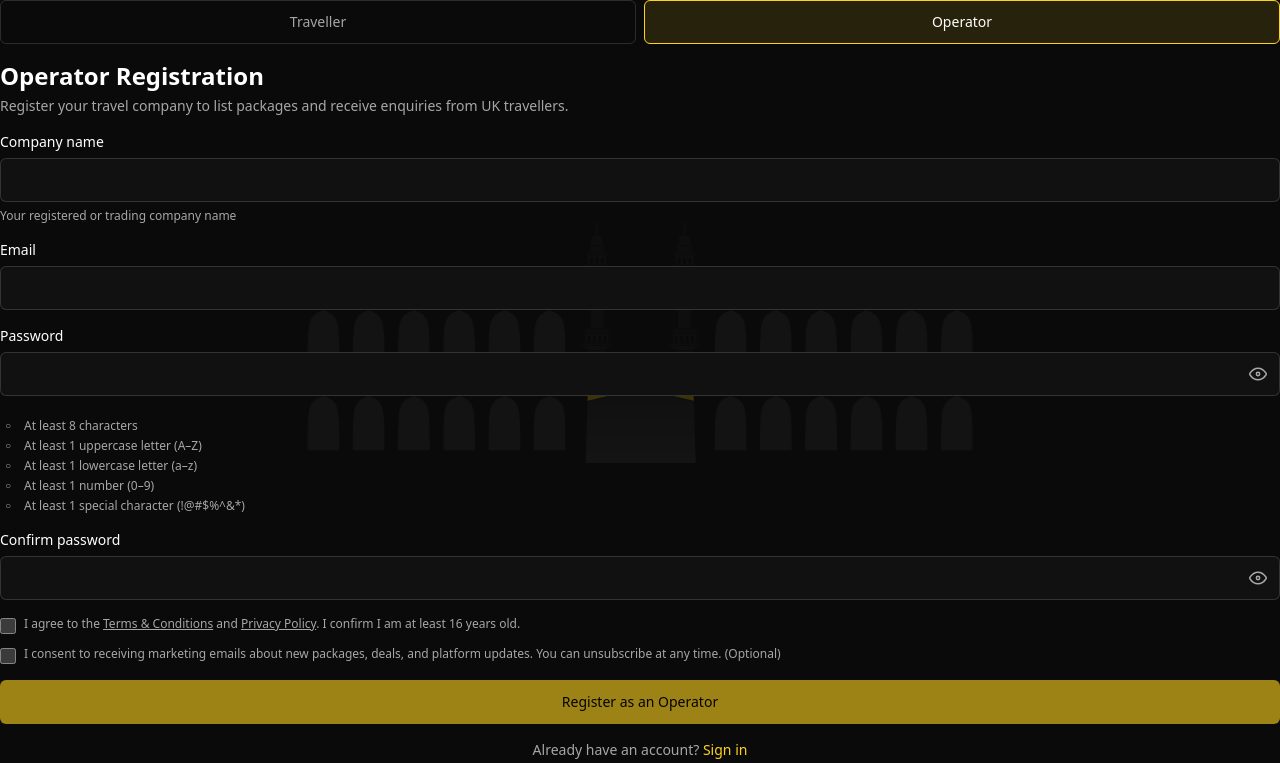
Test: SignUpForm › shows password mismatch error when passwords do not match
This screenshot has width=1280, height=763.
Type "Test User" into the field with test id "signup-name" at (640, 180), box x1=0 y1=158 x2=1279 y2=202
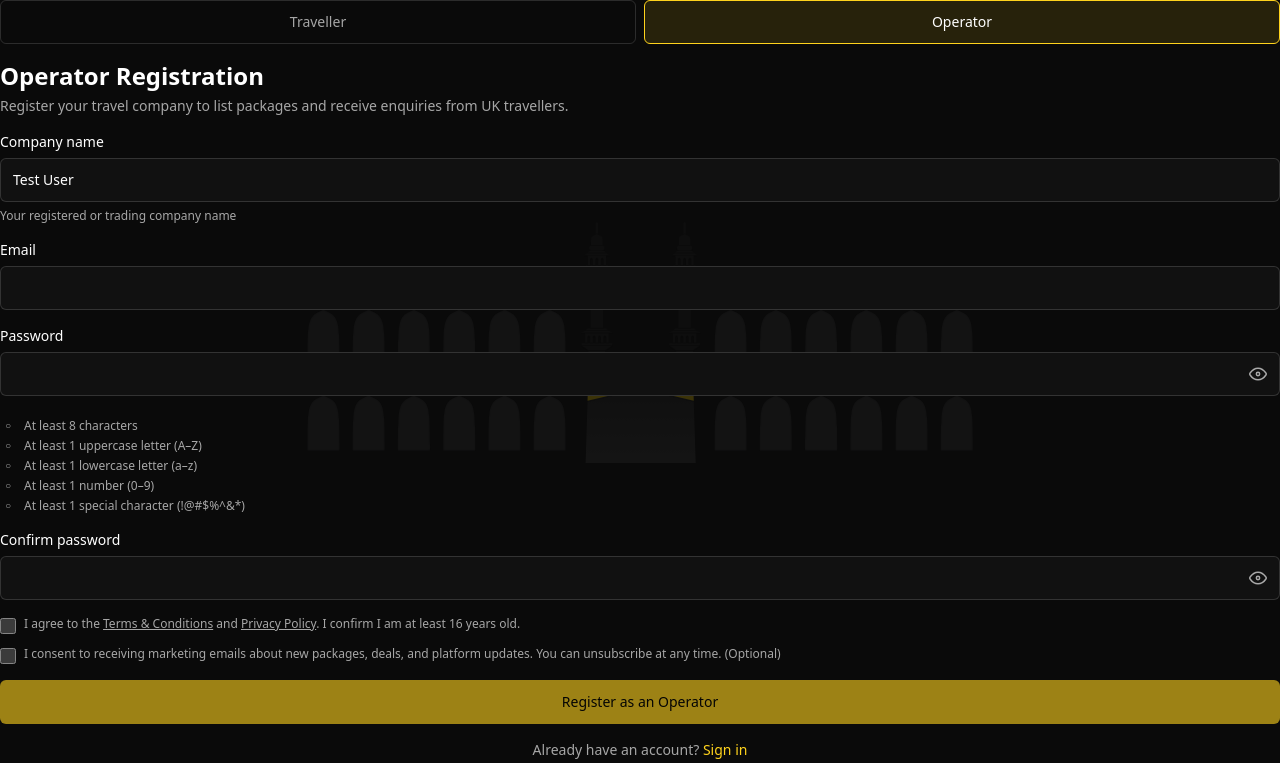
Type "test@example.com" into the field with test id "signup-email" at (640, 288), box x1=0 y1=266 x2=1279 y2=310
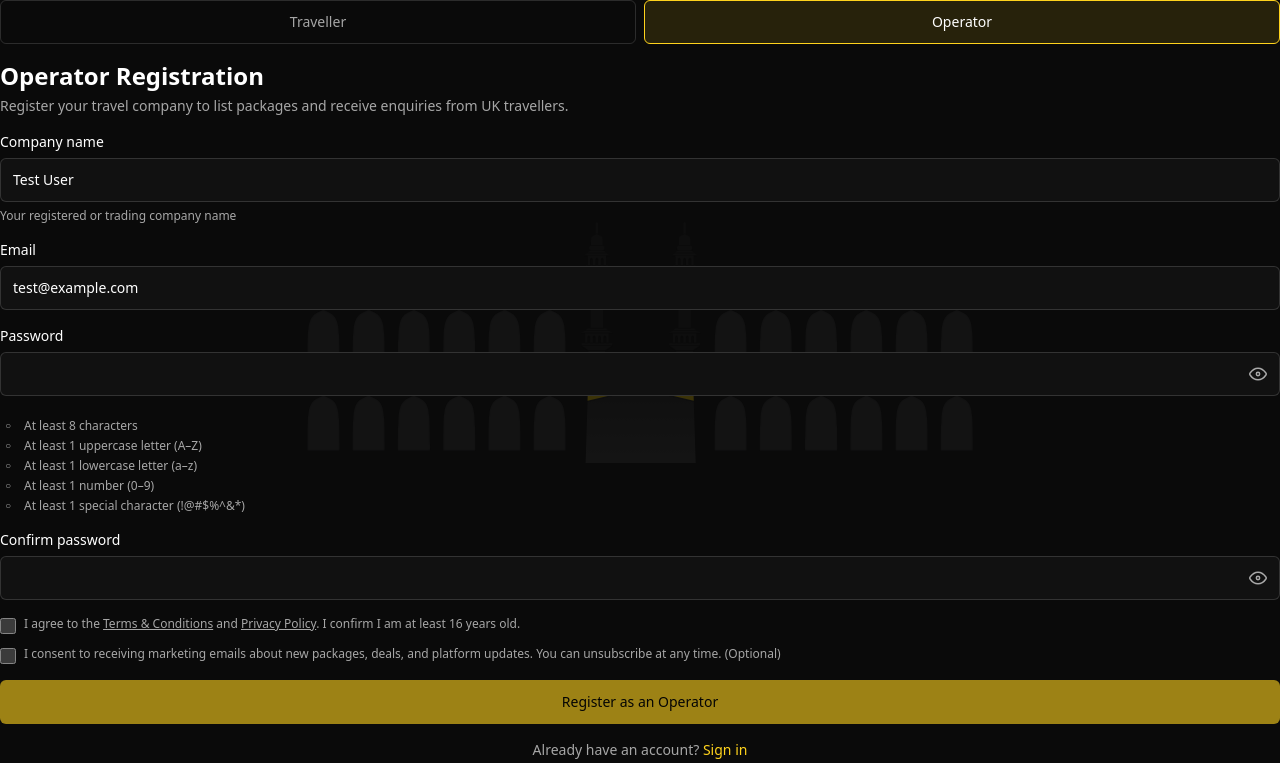
Type "TestPass123!" into the password field with test id "signup-password" at (640, 374), box x1=0 y1=352 x2=1279 y2=396
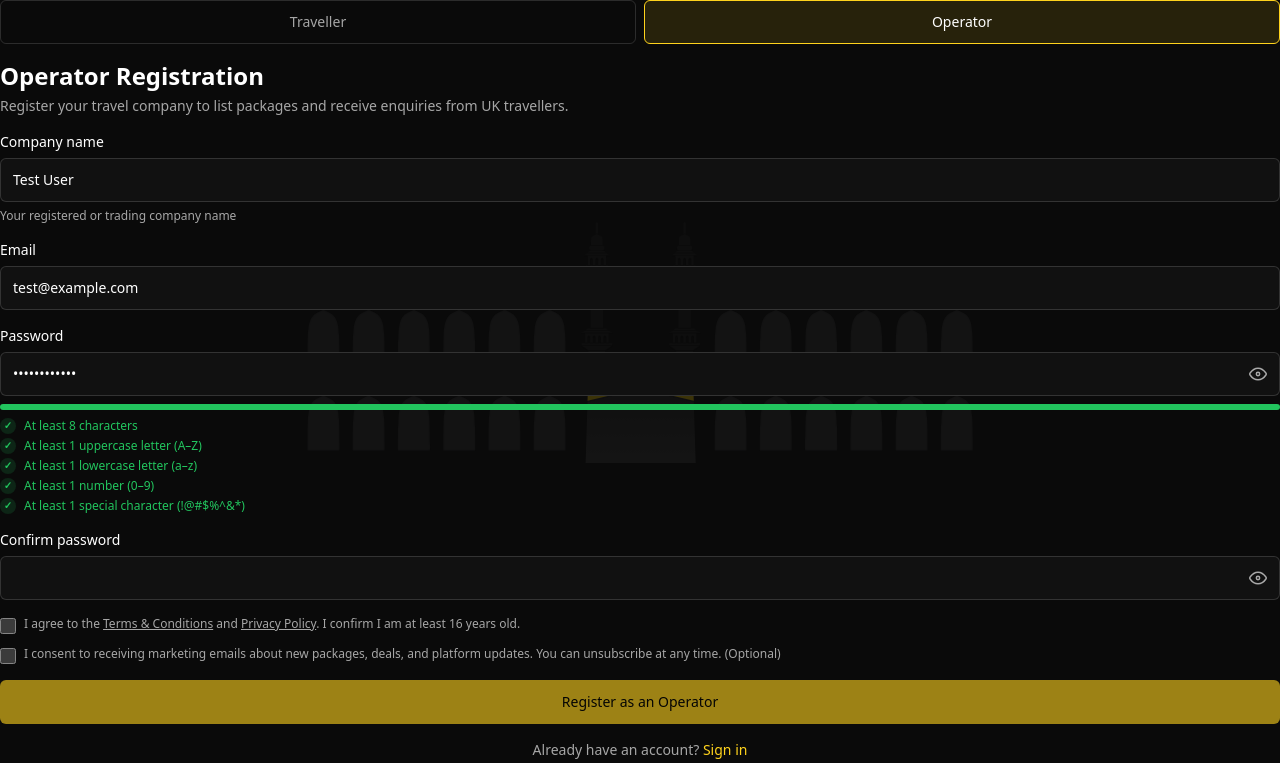
Type "Different456!" into the password field with test id "signup-confirm-password" at (640, 578), box x1=0 y1=556 x2=1279 y2=600
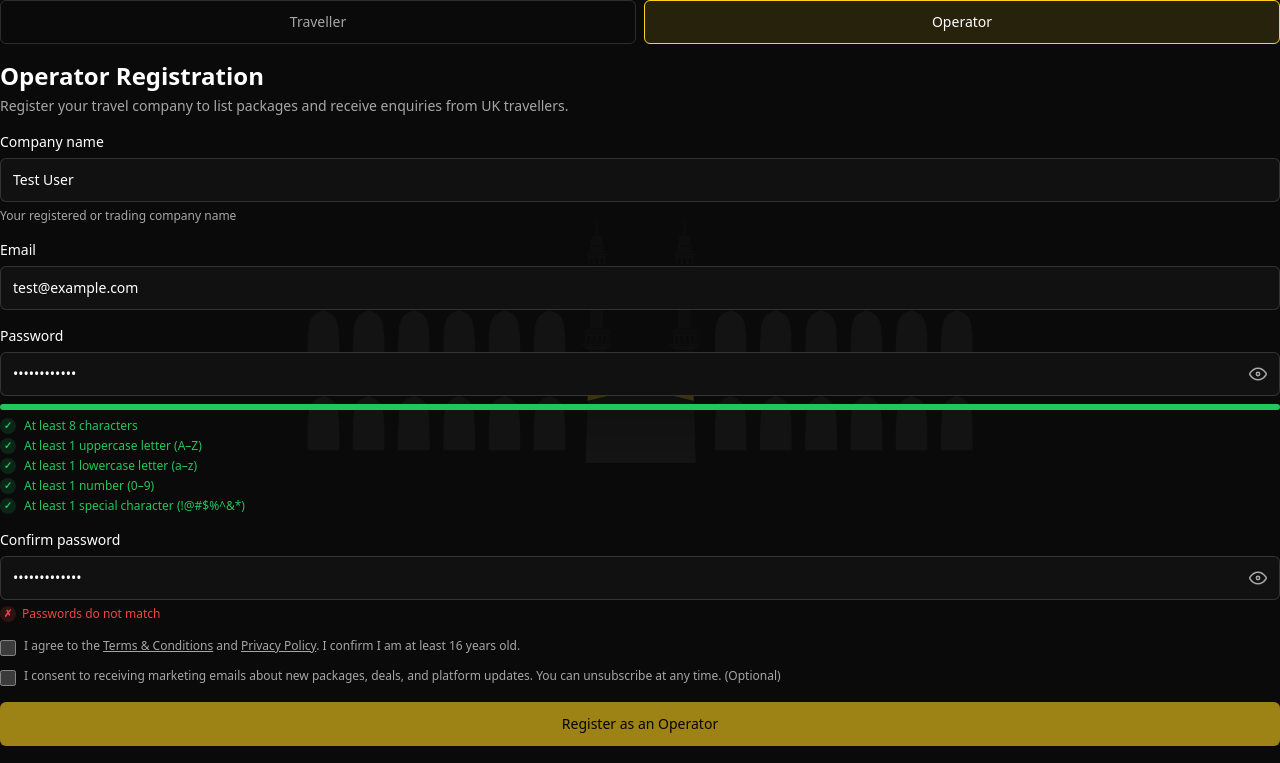
Click the checkbox with test id "signup-terms-checkbox" at (8, 648), box x1=0 y1=640 x2=16 y2=656
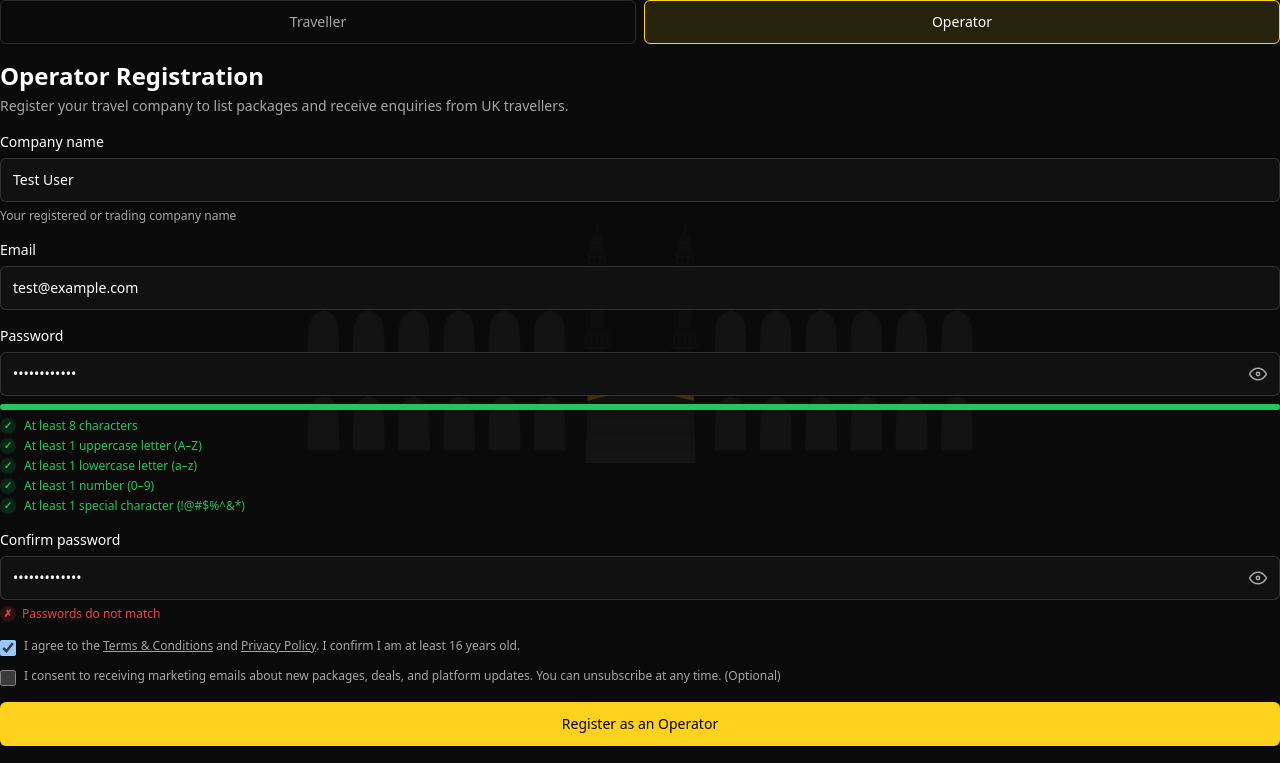
Click the button with test id "signup-submit" at (640, 724), box x1=0 y1=702 x2=1279 y2=746
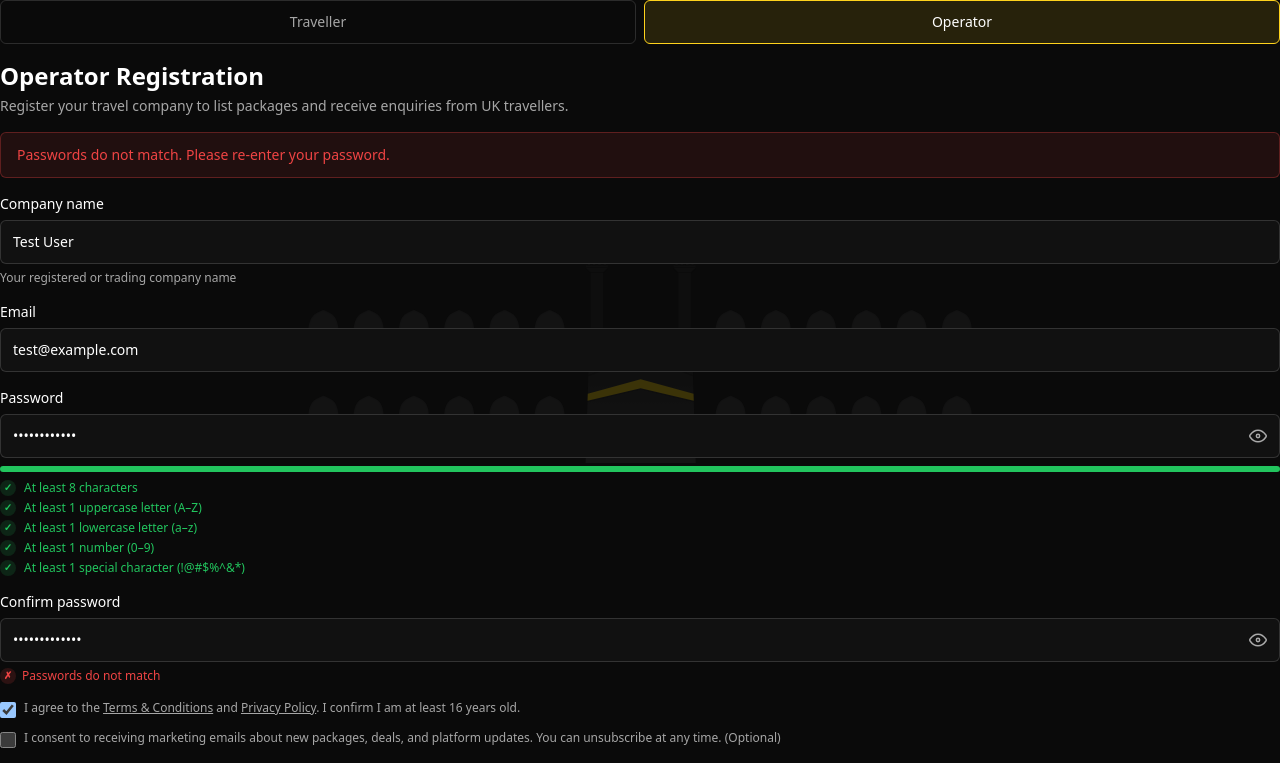
Result: the message with test id "signup-password-mismatch" shows "Passwords do not match" at x1=17 y1=145 x2=390 y2=164
